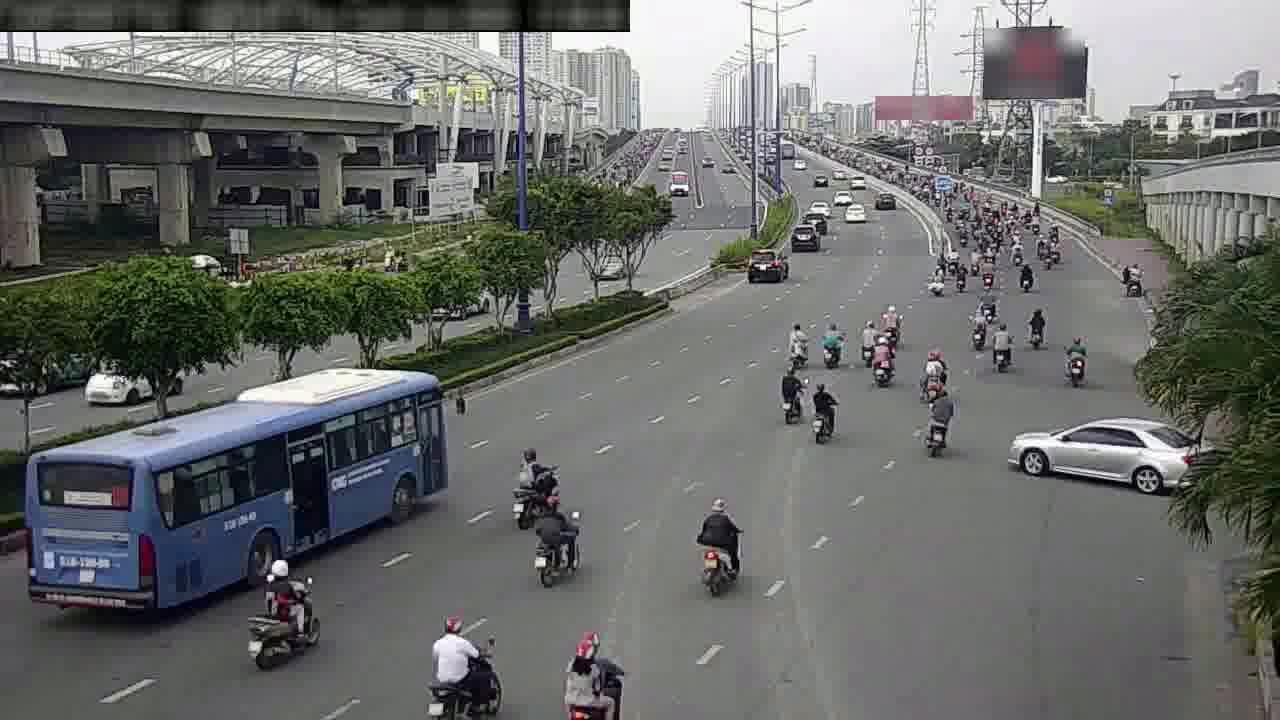car: (1013, 404, 1197, 498), (742, 243, 789, 285), (785, 218, 822, 251)
motorbike: (246, 545, 320, 668), (429, 611, 504, 716), (560, 619, 629, 714), (690, 492, 750, 595), (528, 492, 585, 590), (506, 442, 557, 527), (803, 379, 842, 446), (917, 393, 956, 456), (773, 361, 808, 427), (914, 347, 951, 400), (1057, 335, 1093, 388), (866, 335, 899, 388), (782, 318, 813, 370), (816, 317, 846, 370), (851, 316, 880, 366), (986, 323, 1016, 371), (1020, 305, 1050, 349), (876, 301, 905, 342), (962, 310, 990, 352), (922, 264, 948, 300), (975, 287, 1001, 322), (1013, 258, 1037, 294), (949, 260, 970, 294), (976, 258, 998, 290), (1126, 262, 1144, 300)
passenger_car: (29, 380, 448, 604)
